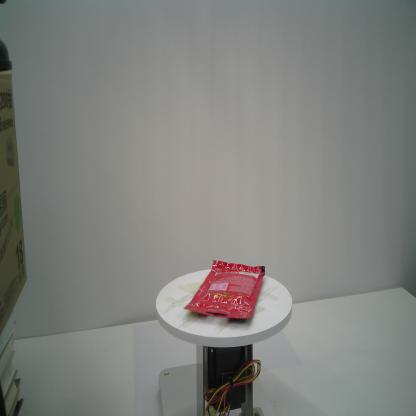Candy: (183, 258, 266, 321)
